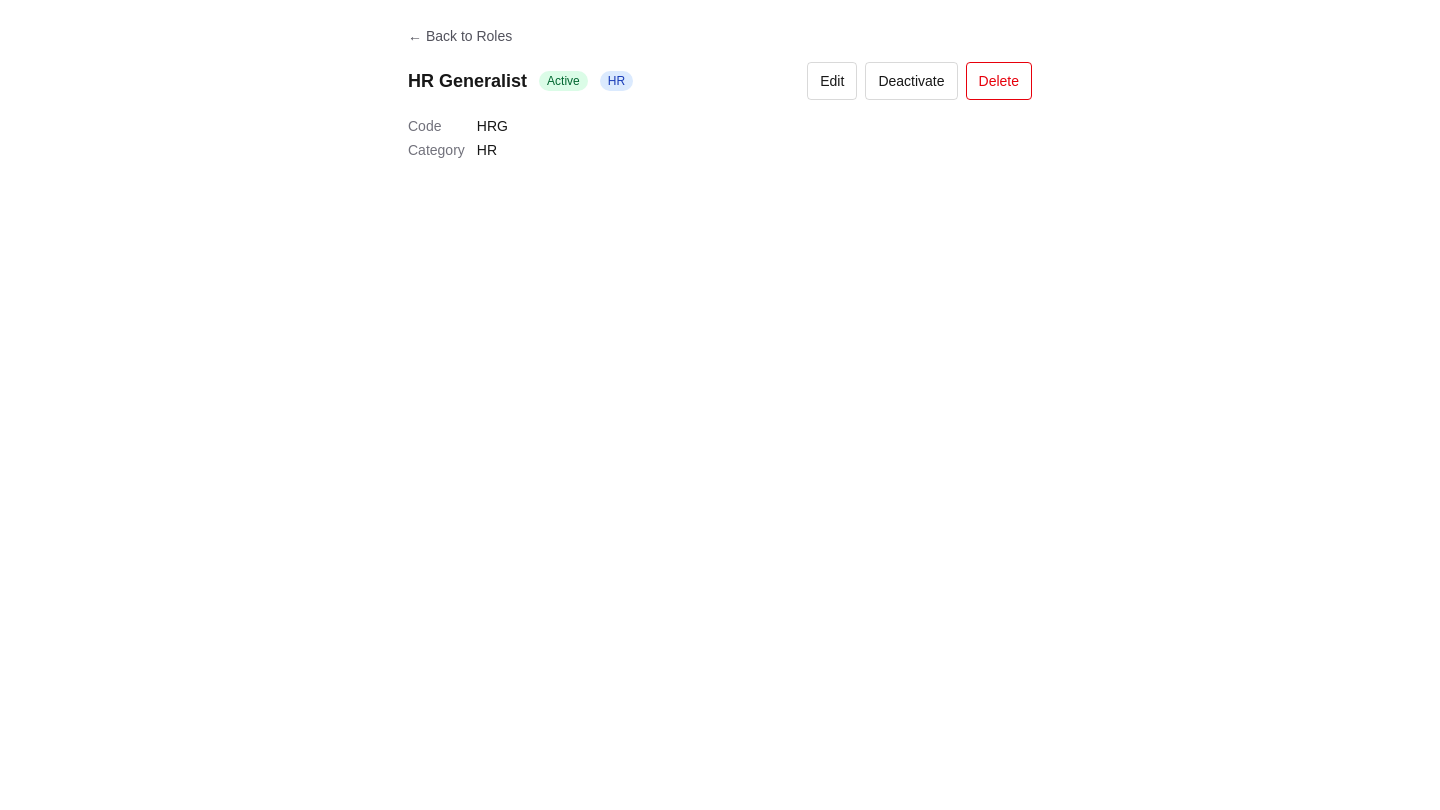
Test: RoleDetailPage › UT10: reflects updated name/code/category after a successful edit
This screenshot has width=1440, height=810.
expect the heading "HR Generalist" is shown: met, box x1=408 y1=67 x2=527 y2=95
Click the button "Edit" at (832,81), box x1=807 y1=62 x2=857 y2=100
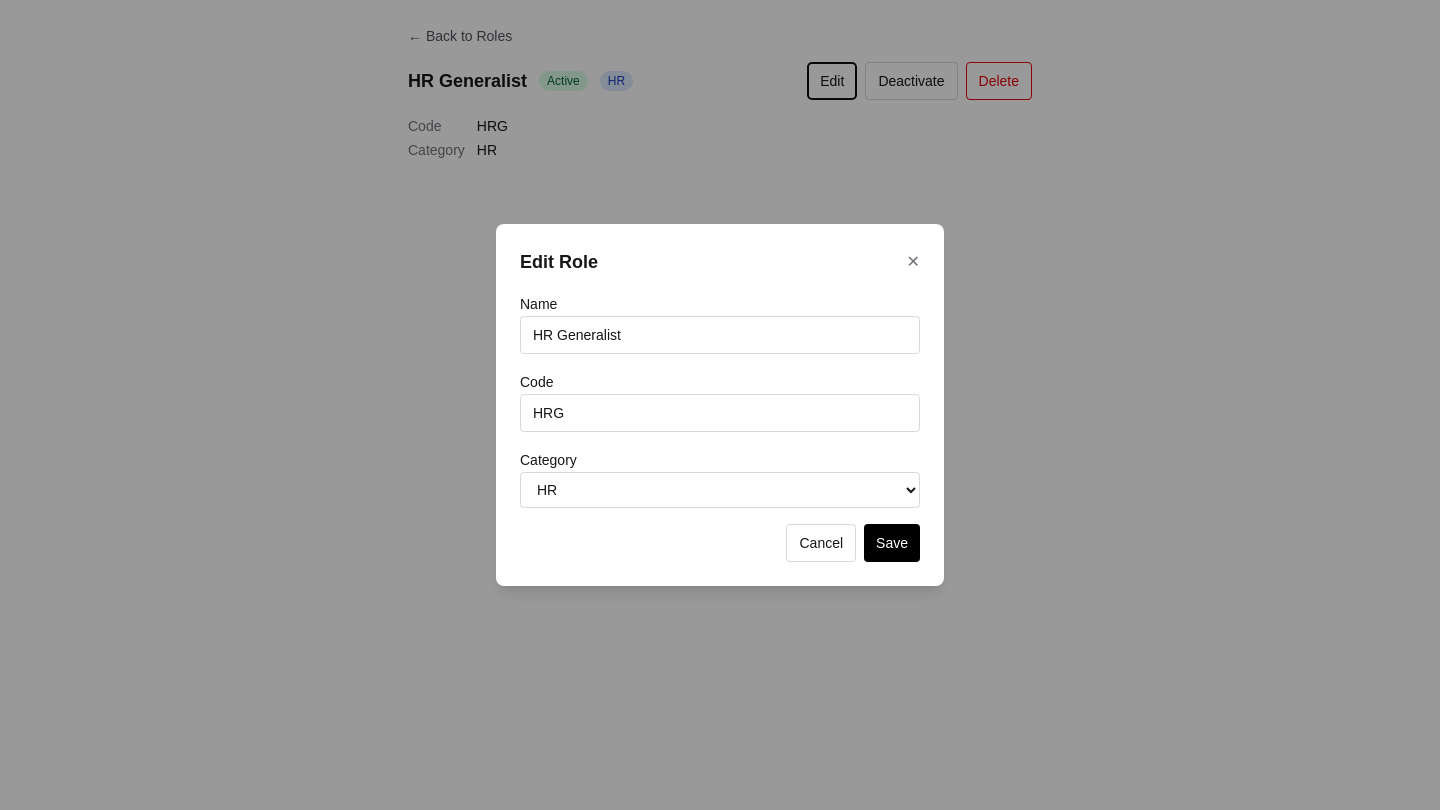
Replace the text in the field labelled "Name" with "People Partner" at (720,335), box x1=520 y1=316 x2=920 y2=354
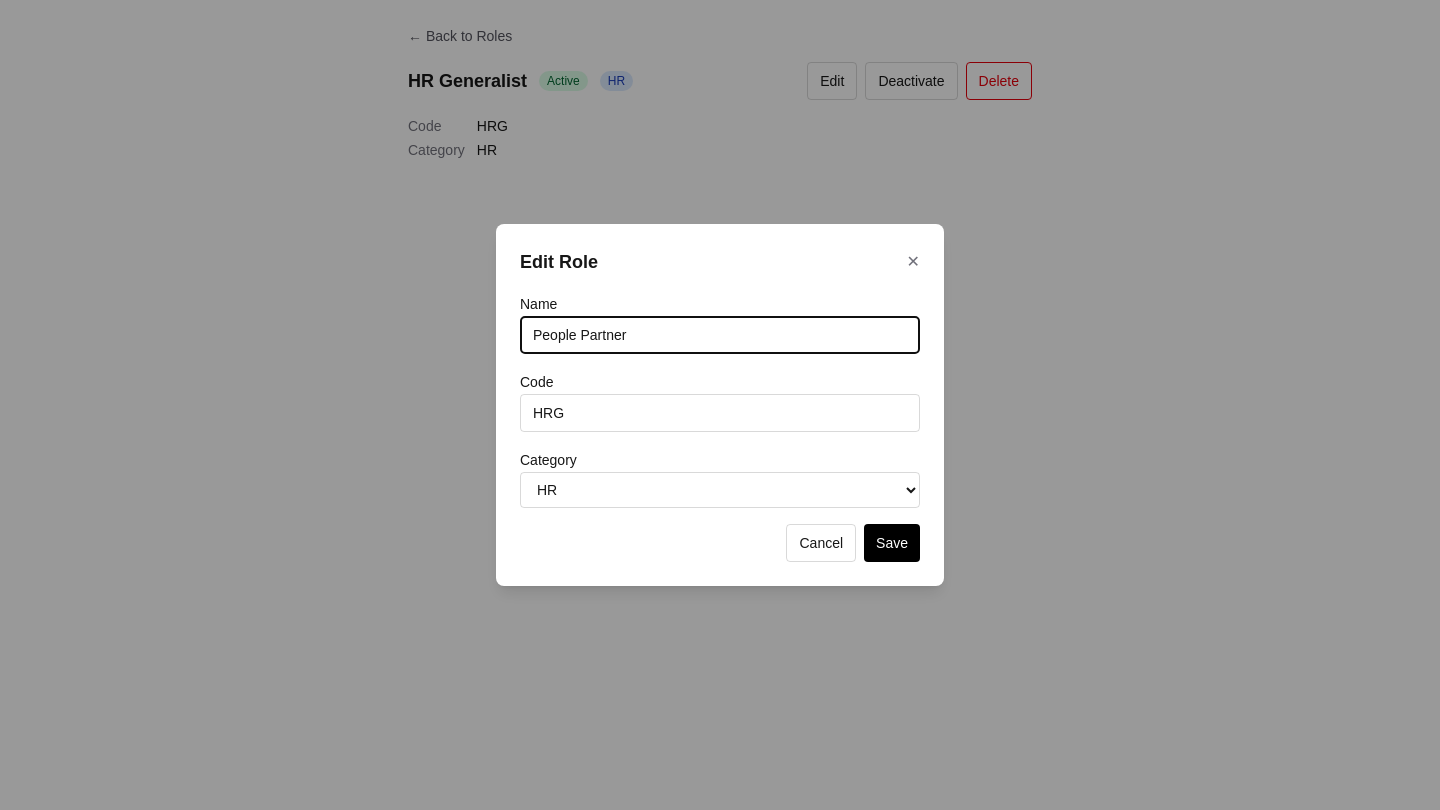
Replace the text in the field labelled "Code" with "PP" at (720,413), box x1=520 y1=394 x2=920 y2=432
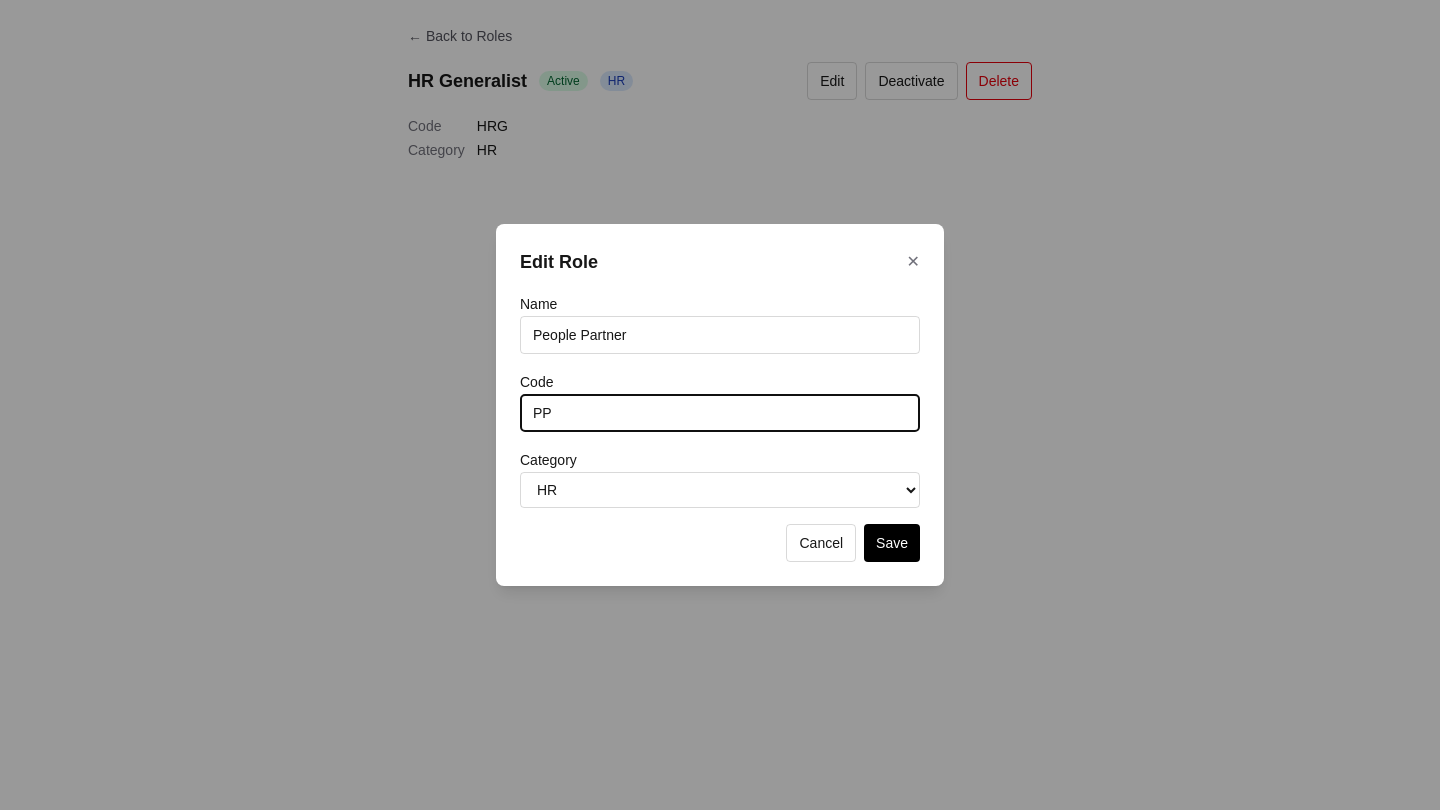
Select "Manager" in the dropdown labelled "Category" at (720,490), box x1=520 y1=472 x2=920 y2=508
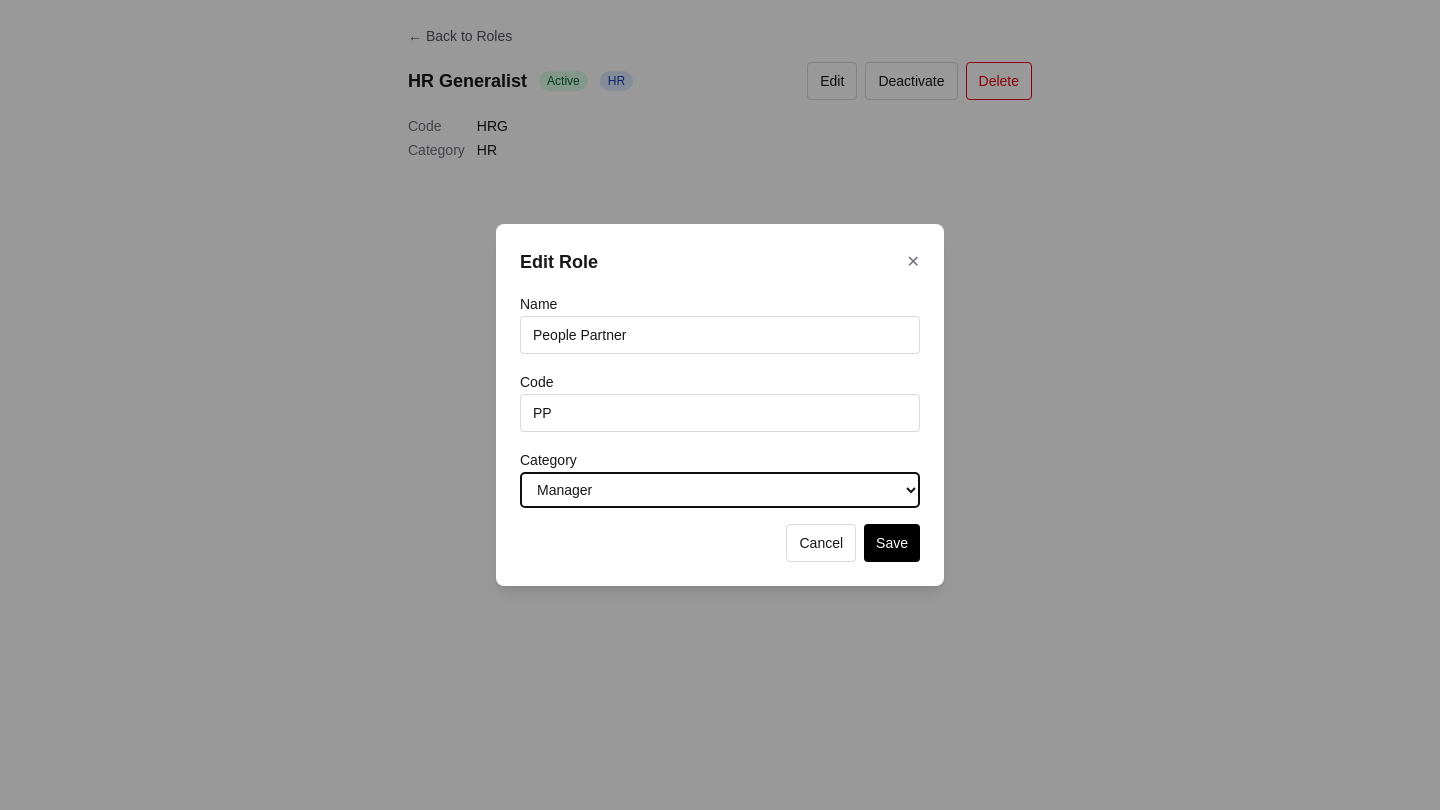
Click the button "Save" at (892,543), box x1=864 y1=524 x2=920 y2=562
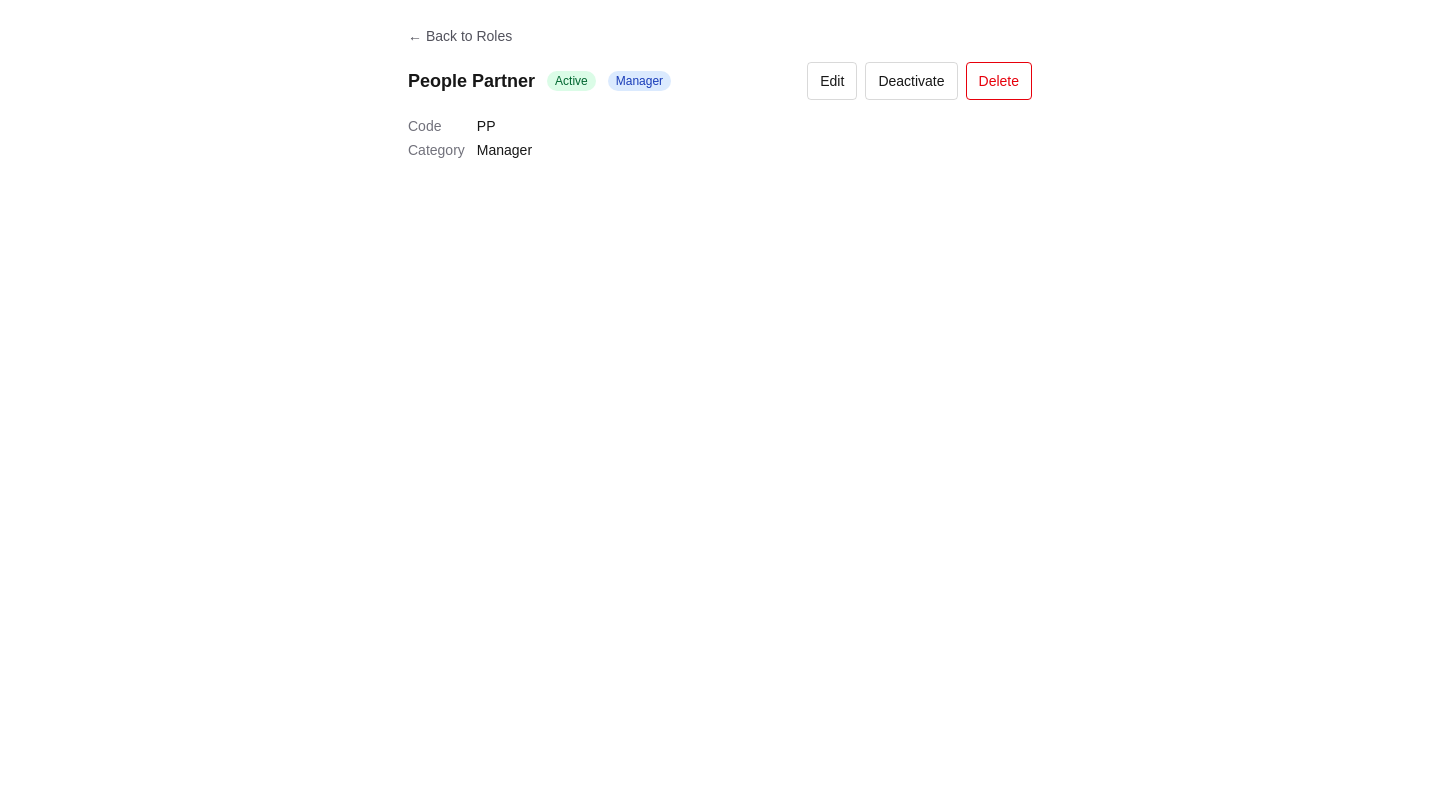
expect the heading "People Partner" is shown: met, box x1=408 y1=67 x2=535 y2=95
expect the text "PP" is shown: met, box x1=477 y1=118 x2=496 y2=134
expect the dialog is gone: met
